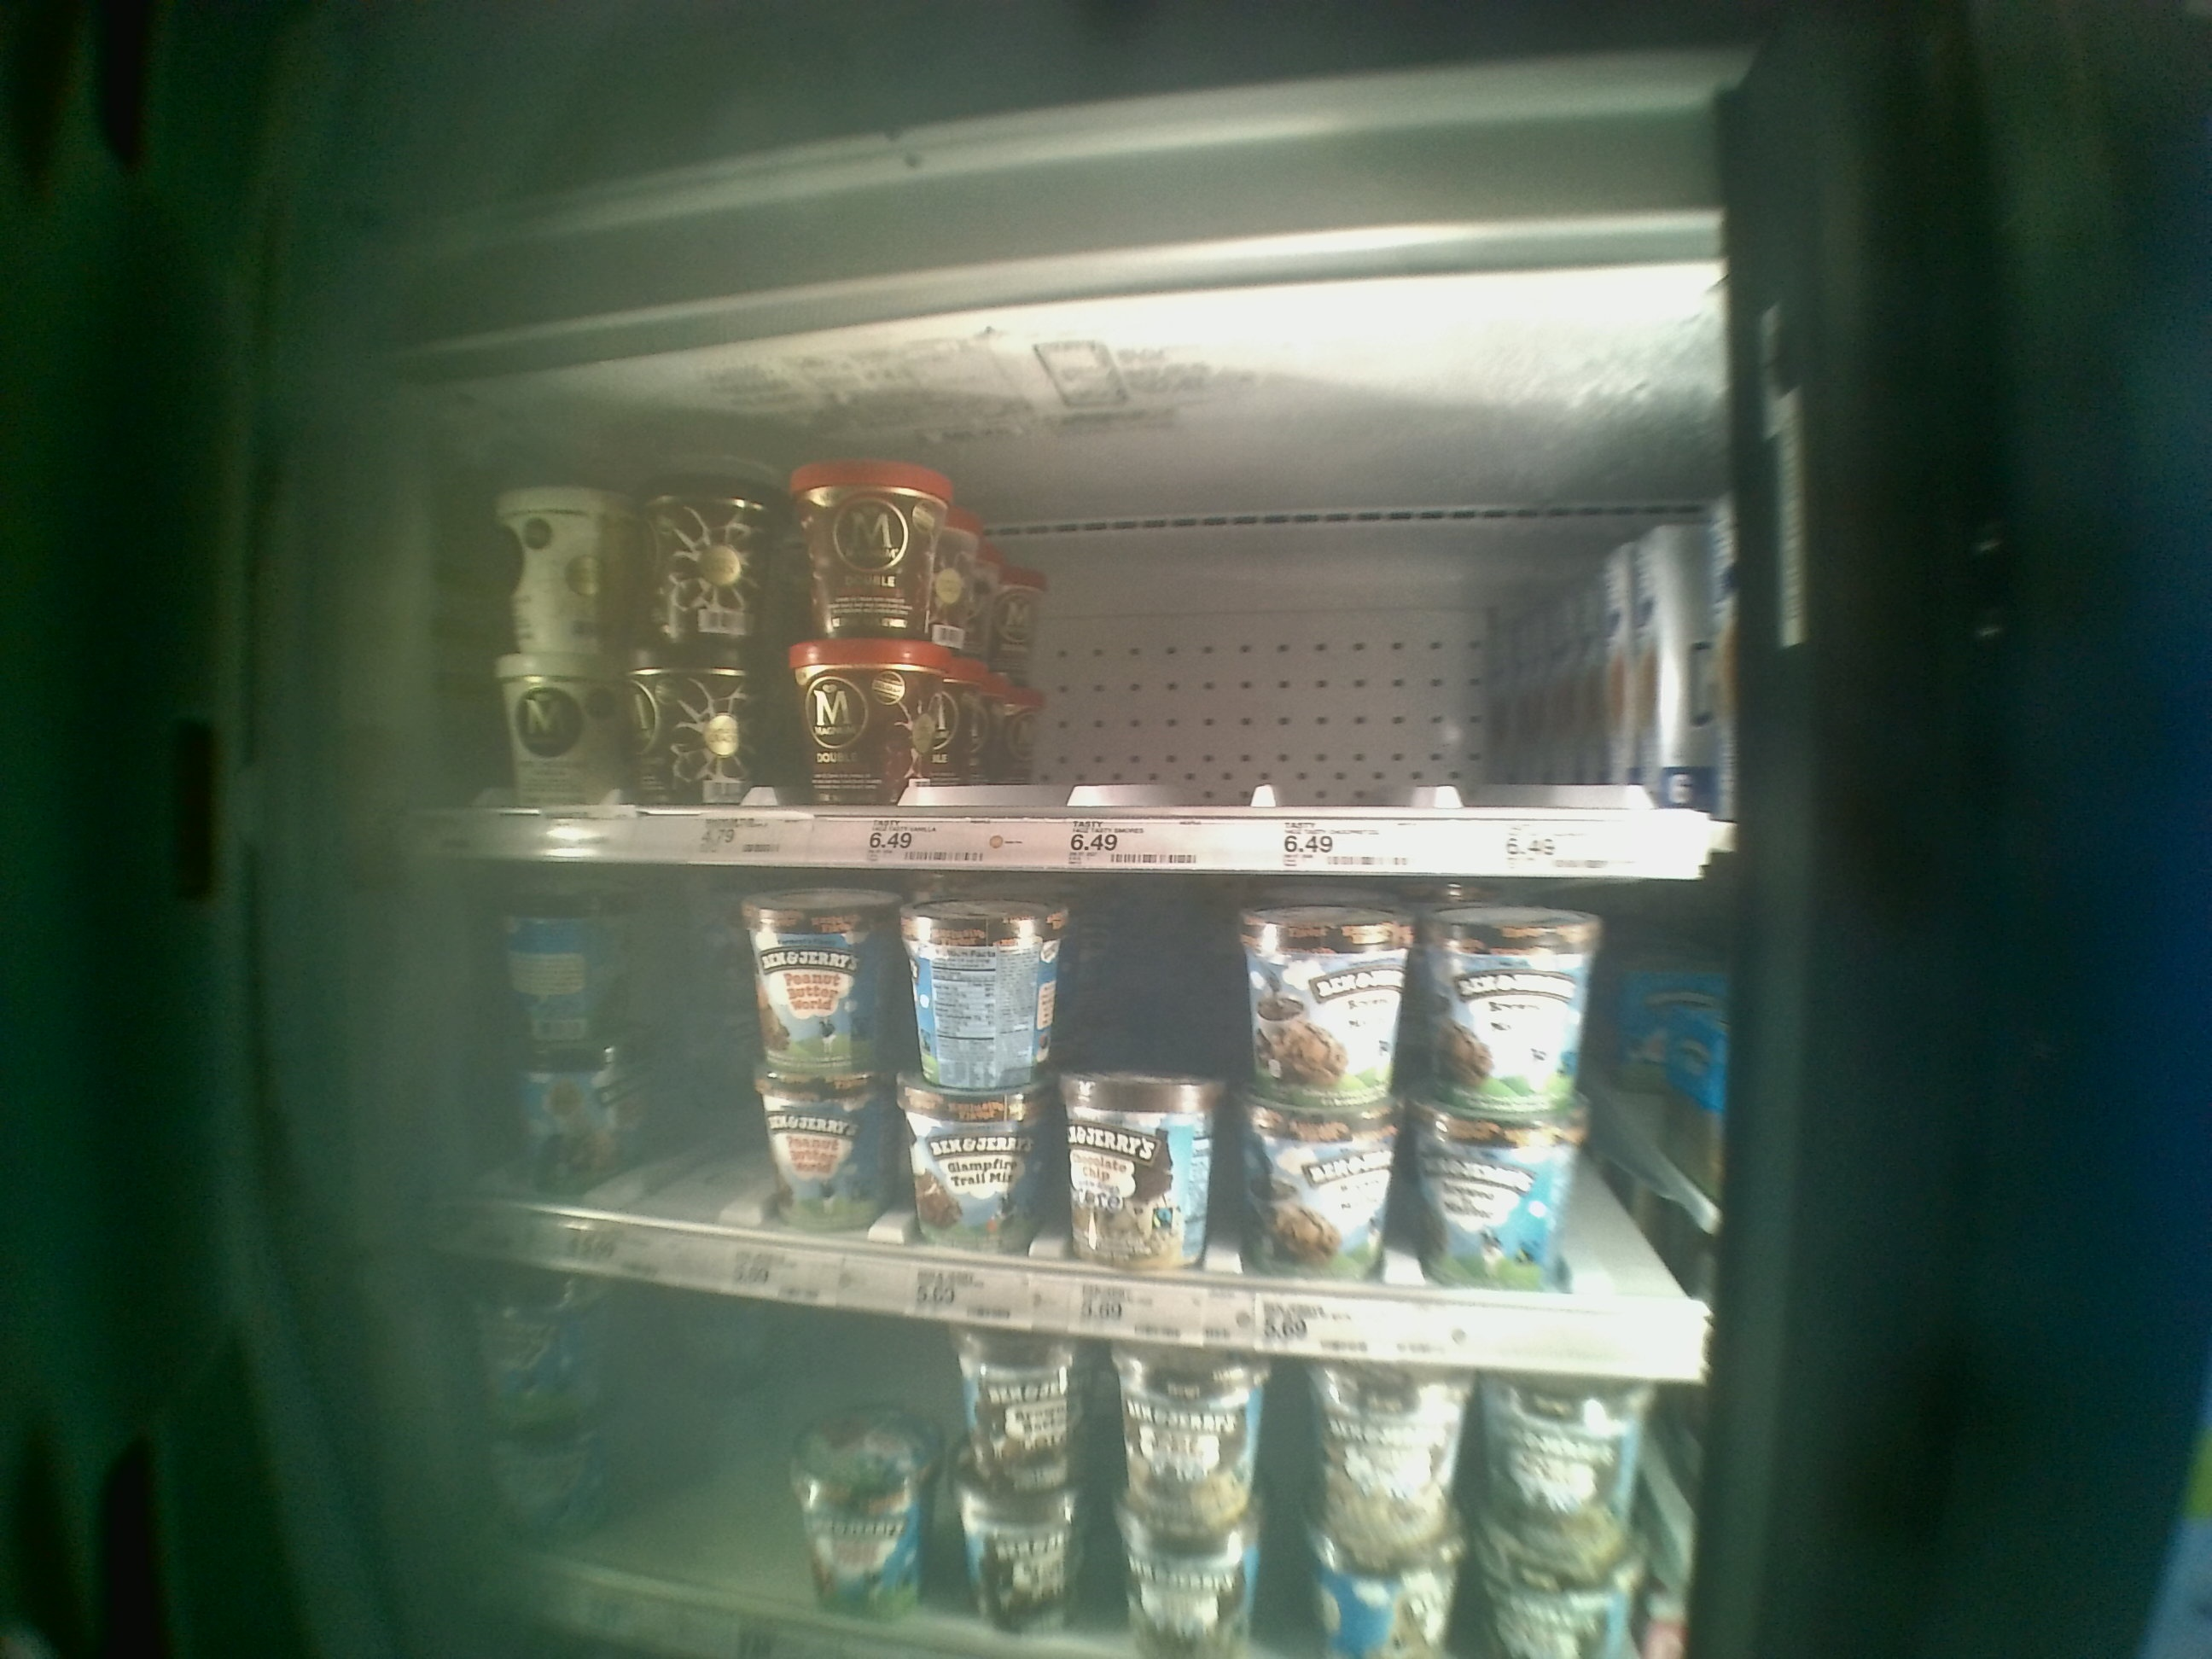ice-cream-shelf: (420, 864, 1724, 1378), (420, 413, 1724, 873)
